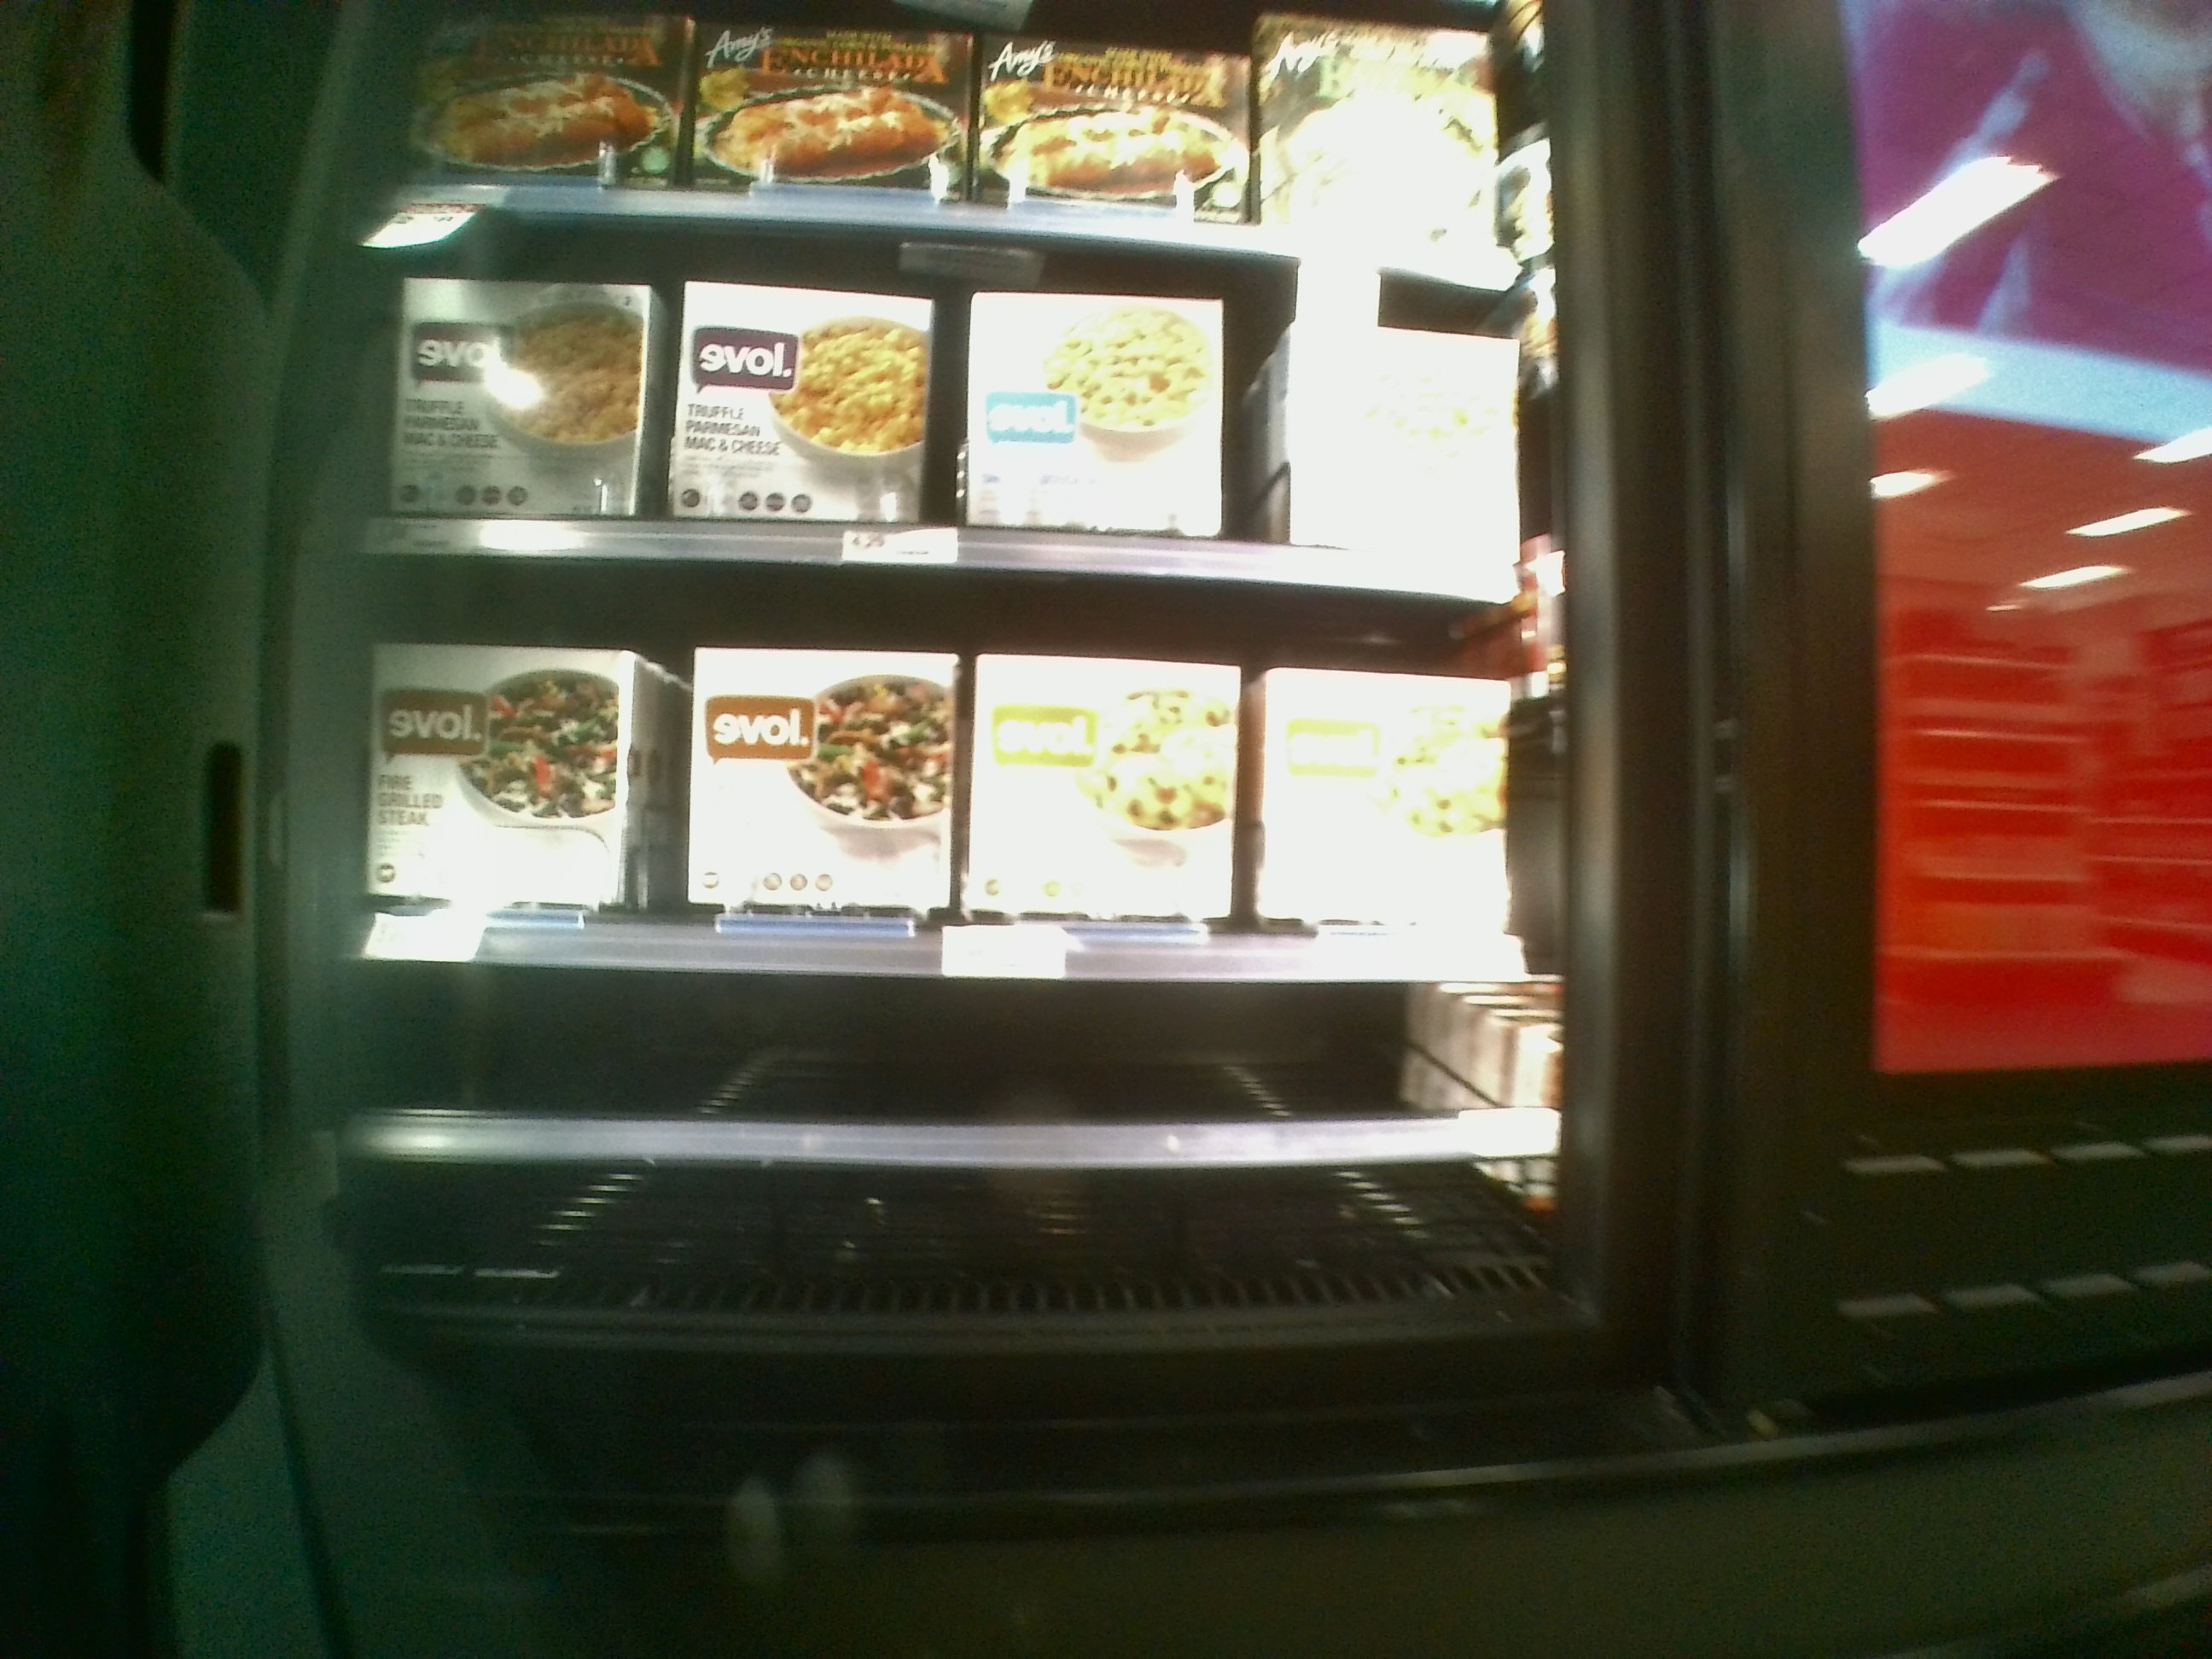shelf: (348, 605, 1566, 985), (355, 263, 1552, 605), (369, 981, 1564, 1303)
